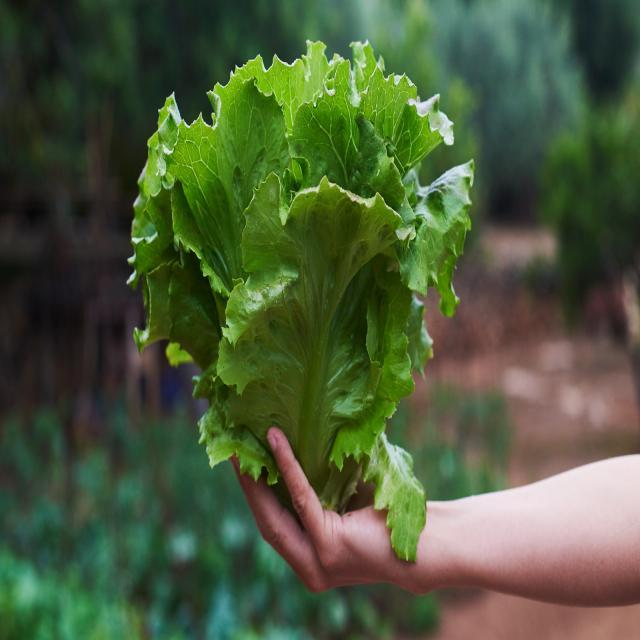Lettuce-Ready-to-Harvest: (128, 29, 478, 532)
